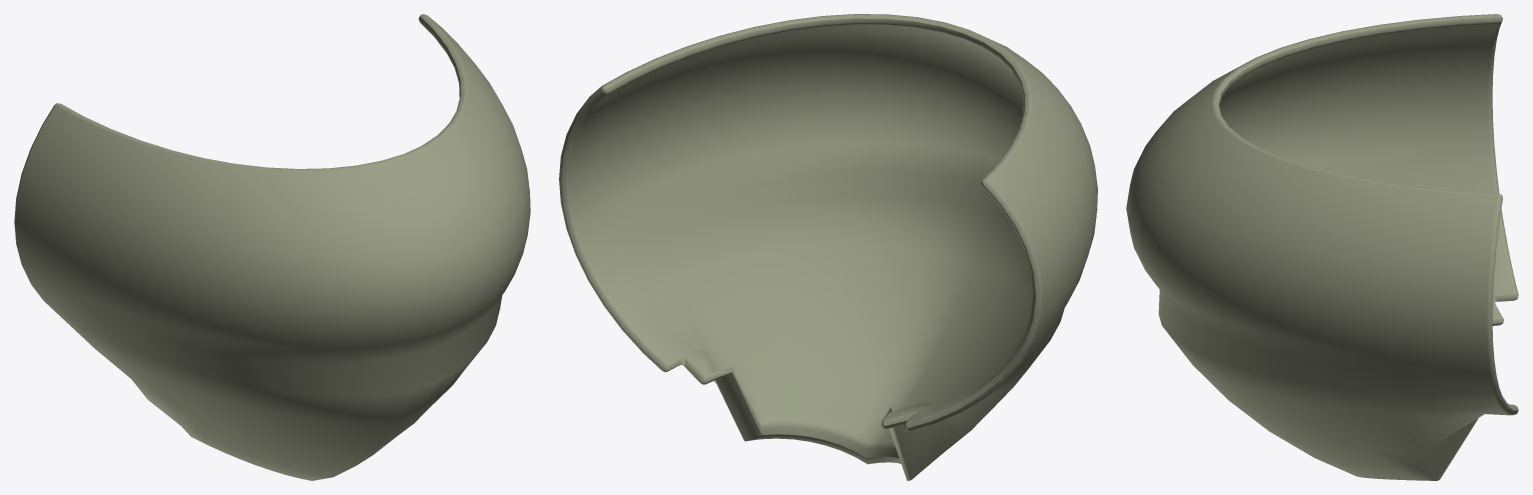
File: mask_bandana_T.glb
3 renders of one model, left to right at view 1: azimuth 30°, elevation 25°; view 2: azimuth 150°, elevation 25°; view 3: azimuth 270°, elevation 25°, orthographic. The views are drawn at different scales.
Visible parts, largest first — view 1: mask@Head; view 2: mask@Head; view 3: mask@Head.
Part boxes in pixels (x1,y1,x2,y2): mask@Head: (14,14,530,480); mask@Head: (559,14,1097,480); mask@Head: (1126,14,1518,480).
Bounding box in the file's own units: 0.2018 × 0.1547 × 0.1475.
